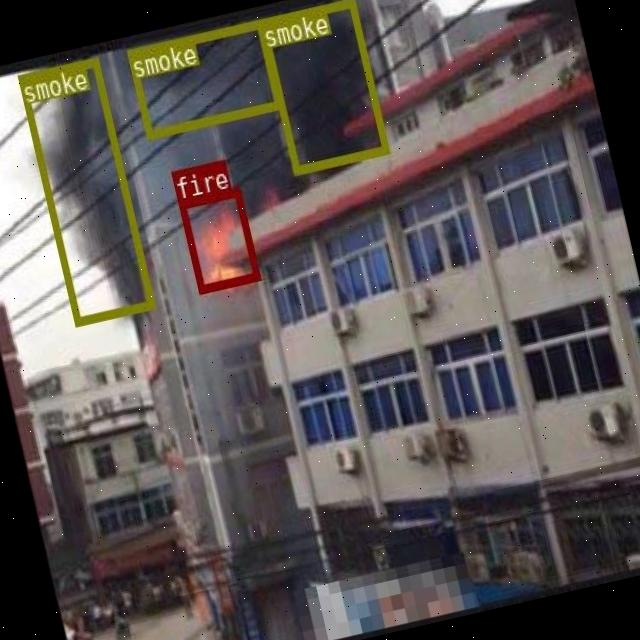fire: (176, 187, 260, 293)
smoke: (15, 56, 154, 324), (257, 0, 387, 173), (126, 19, 280, 138)
